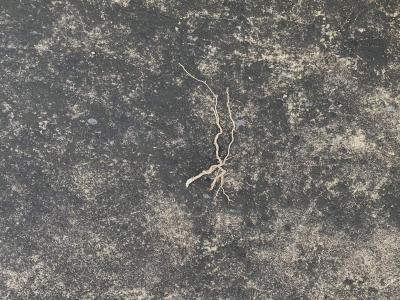Root: (179, 63, 236, 202)
